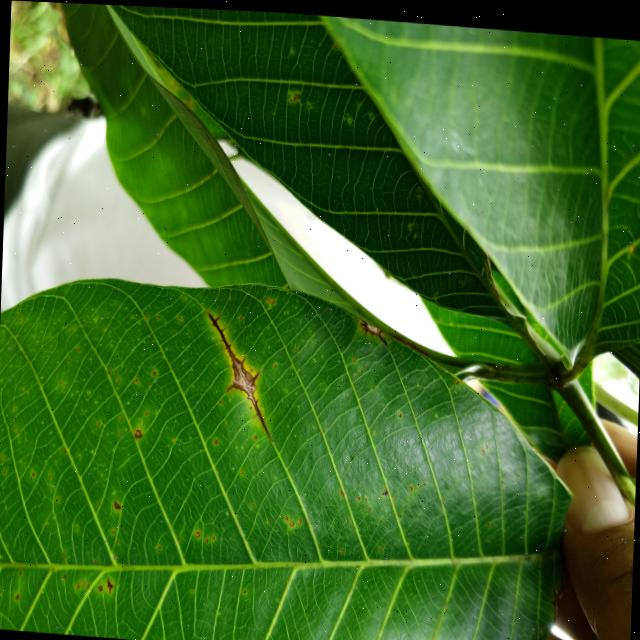Colletotrichum: (134, 426, 142, 435), (196, 528, 200, 535), (214, 436, 218, 441), (298, 514, 302, 519), (98, 583, 101, 589), (290, 518, 294, 522), (152, 368, 156, 372), (285, 512, 288, 517), (327, 304, 330, 308), (205, 535, 208, 539), (243, 586, 246, 590), (212, 533, 215, 536), (218, 396, 220, 400), (251, 500, 253, 503)
Corynespora: (203, 309, 276, 435), (358, 314, 388, 342)
